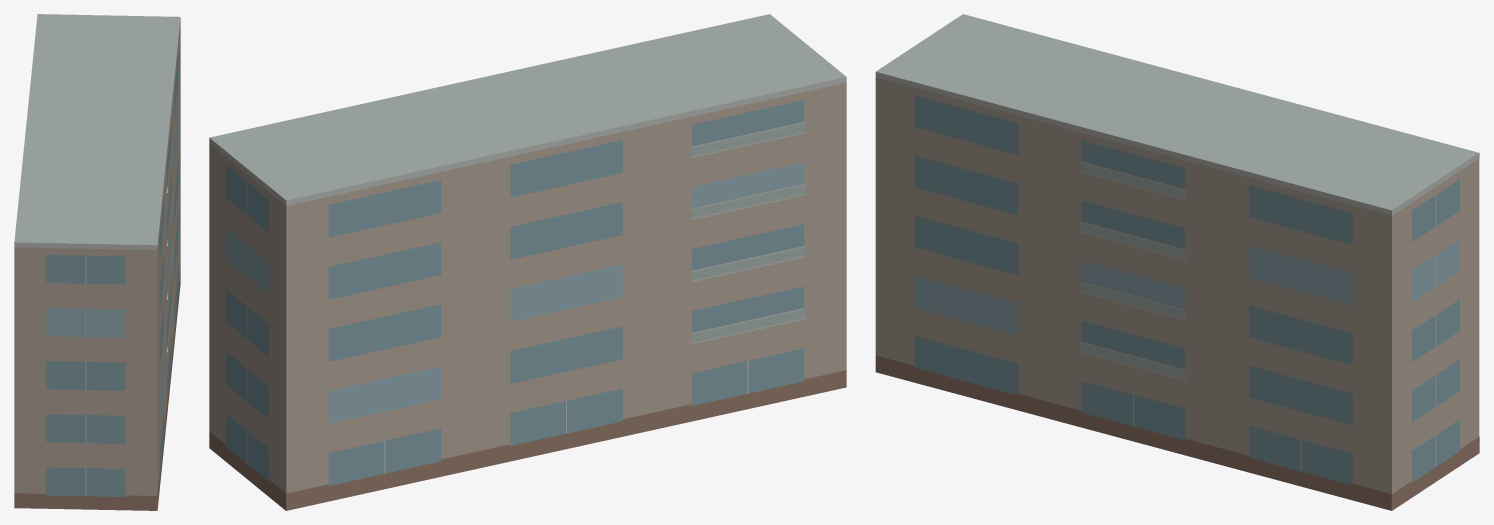
Rendered from survey-upis-32872864.glb.
3 renders of one model, left to right at view 1: azimuth 30°, elevation 25°; view 2: azimuth 150°, elevation 25°; view 3: azimuth 270°, elevation 25°, orthographic. The views are drawn at different scales.
Visible parts, largest first — view 1: survey-upis-32872864.tmp; view 2: survey-upis-32872864.tmp; view 3: survey-upis-32872864.tmp.
Boxes of the visible parts, <box> form: survey-upis-32872864.tmp: <box>14,14,180,510</box>; survey-upis-32872864.tmp: <box>209,14,846,510</box>; survey-upis-32872864.tmp: <box>875,14,1479,510</box>.
Bounding box in the file's own units: 18.65 × 13.3 × 24.23.
